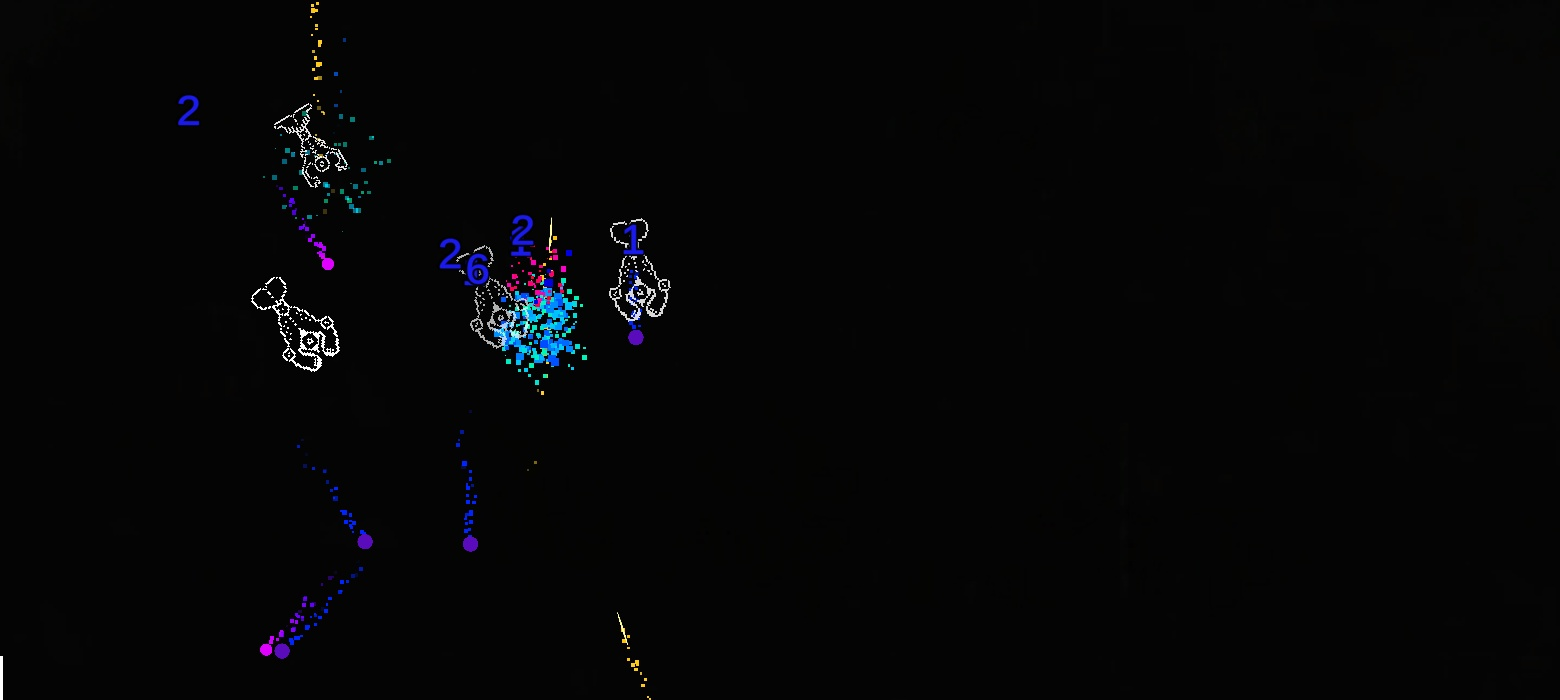enemy: (250, 276, 340, 372), (456, 245, 529, 350), (272, 102, 348, 190), (610, 217, 672, 322)
